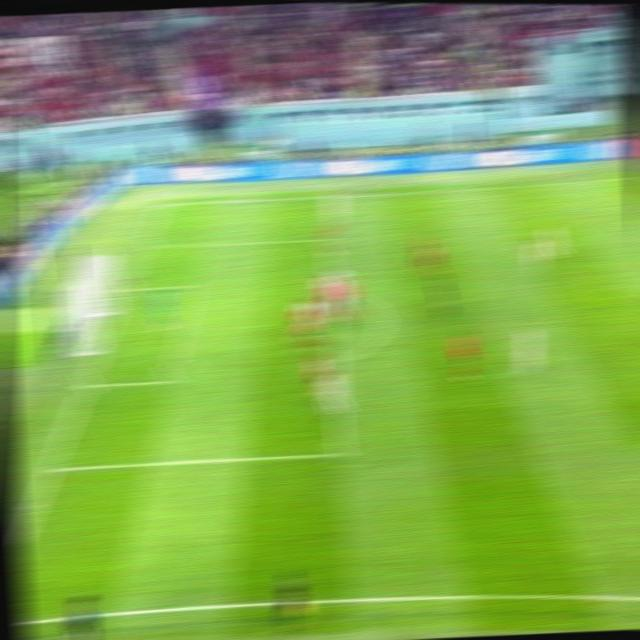bigarea_bottom_inner: (326, 440, 357, 464)
bigarea_bottom_outter: (39, 458, 65, 479)
bigarea_top_inner: (319, 234, 335, 245)
bigarea_top_outter: (135, 237, 159, 252)
bottom_arc_area_intersection: (325, 353, 349, 373)
corner: (151, 195, 176, 210)
smallarea_bottom_inner: (157, 365, 185, 393)
smallarea_bottom_outter: (73, 372, 102, 395)
smallarea_top_inner: (182, 275, 208, 295)
smallarea_top_outter: (117, 276, 141, 297)
